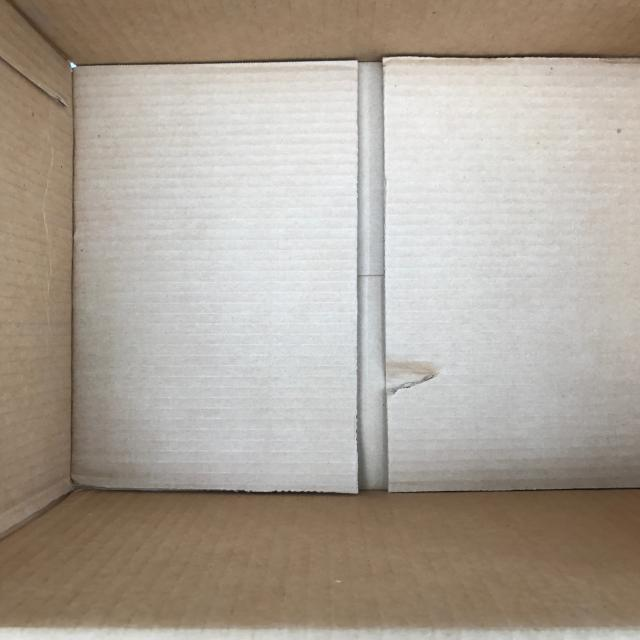cardboard: (71, 60, 360, 493), (383, 55, 640, 493)
